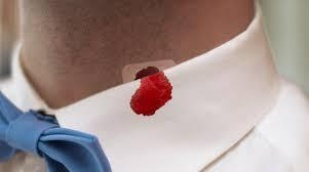blood: (129, 75, 173, 117)
